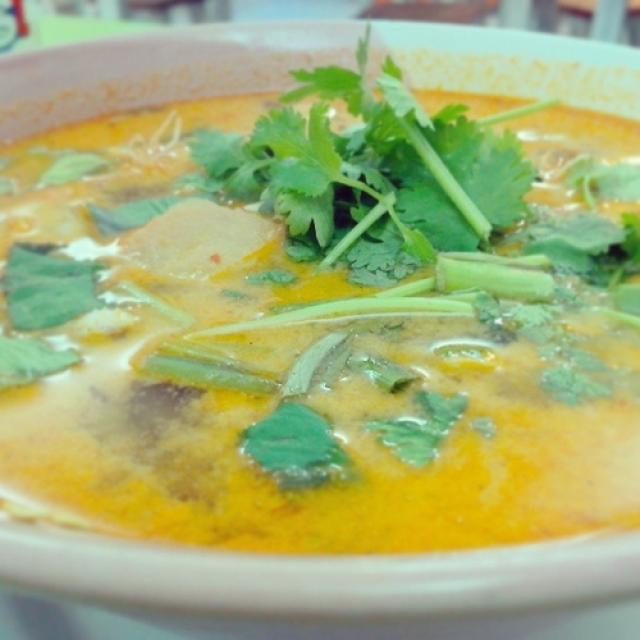汤锅炖物: (15, 47, 617, 567)
